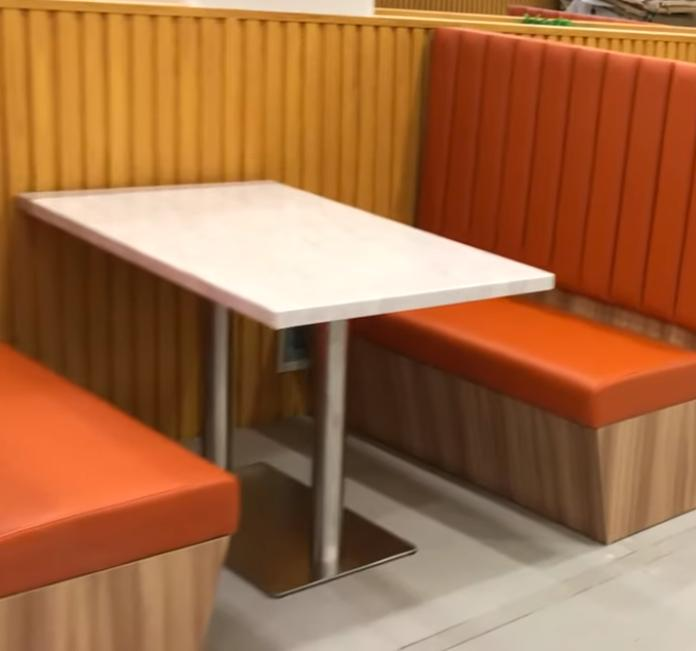Clean Table: (0, 148, 603, 400)
